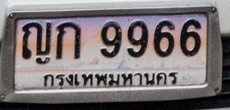txt01: (53, 21, 82, 60)
txt10: (19, 20, 52, 66)
